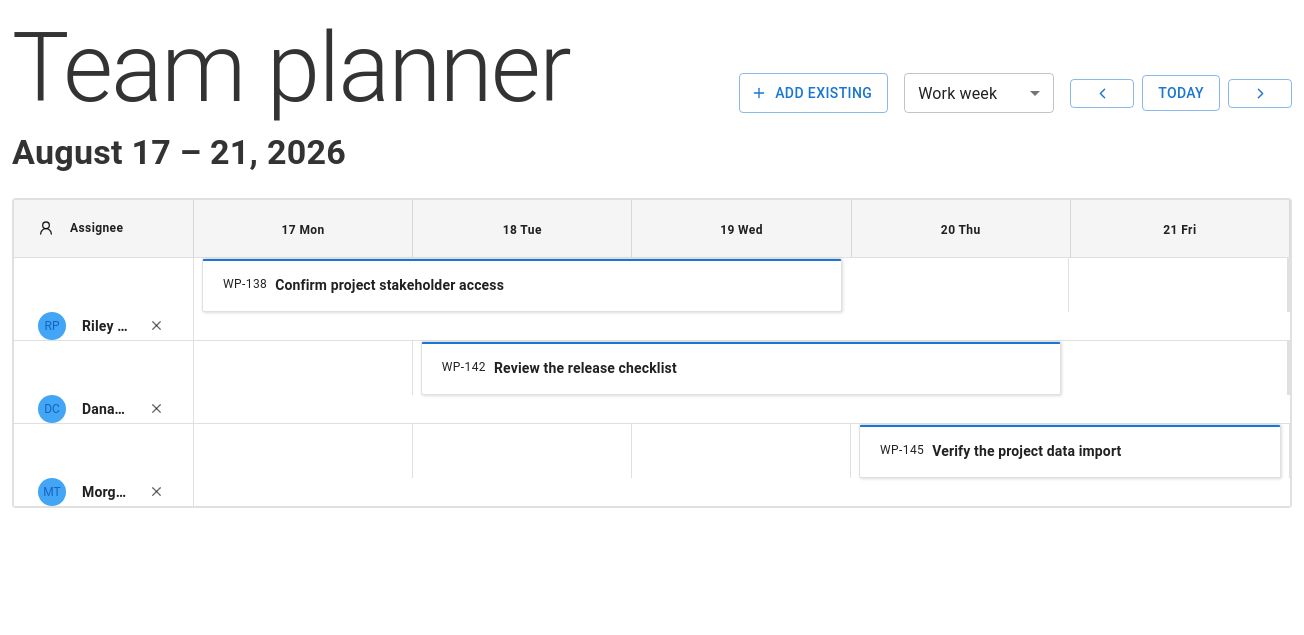
Test: ProjectTeamPlanner › opens and filters the add-existing work package pane
Step 1. Click the button "Add existing" → (814, 93), box 739,73 -> 888,113
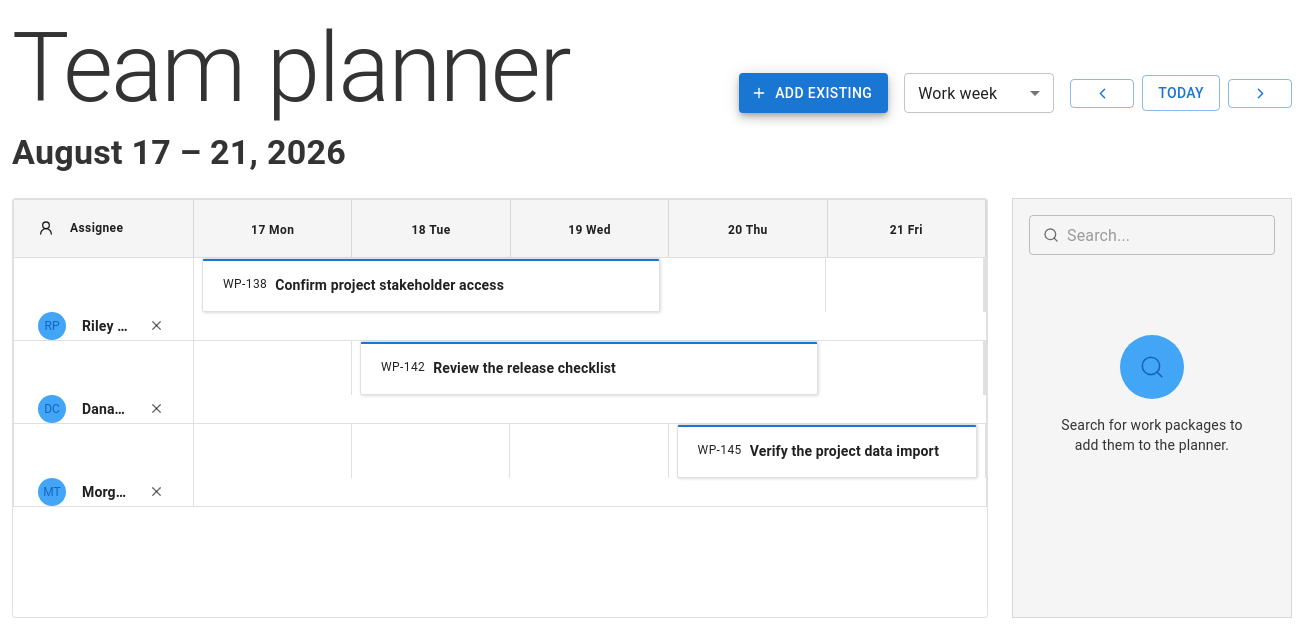
Expected: the element named "Available work packages" is shown, 1012,198 -> 1292,618
Step 2. Type "incident" into the search field named "Search existing work packages" → (1171, 235), box 1067,215 -> 1275,255
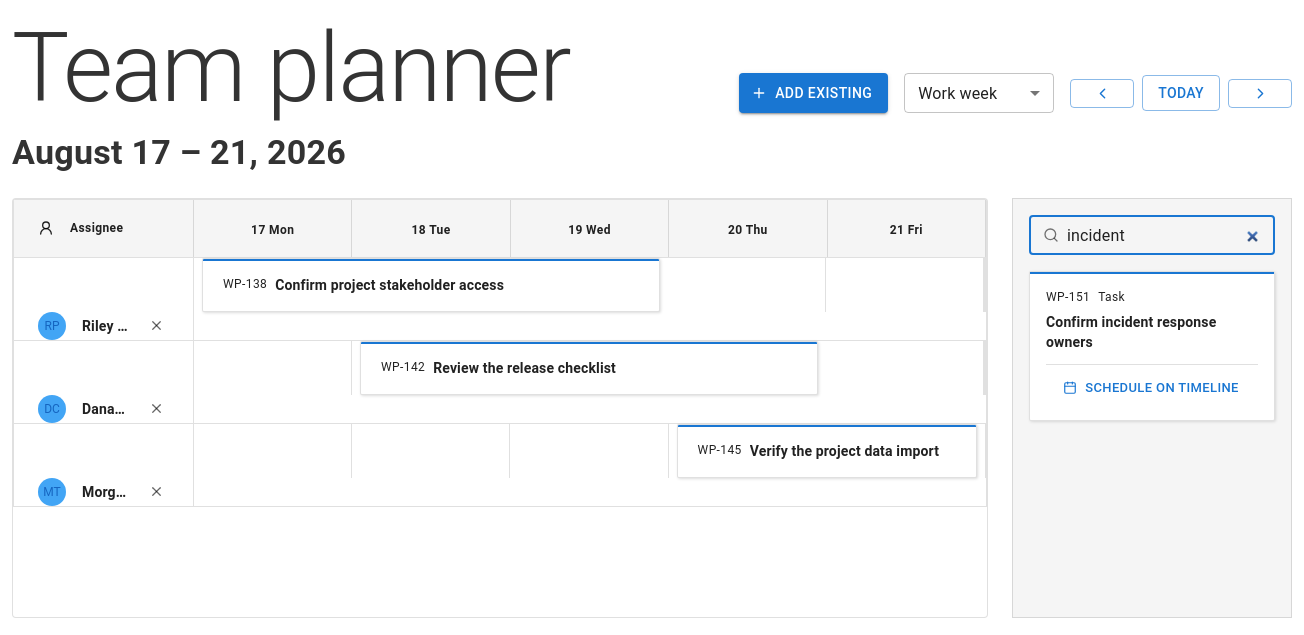
Expected: the link "Confirm incident response owners" is shown, 1046,314 -> 1216,350
